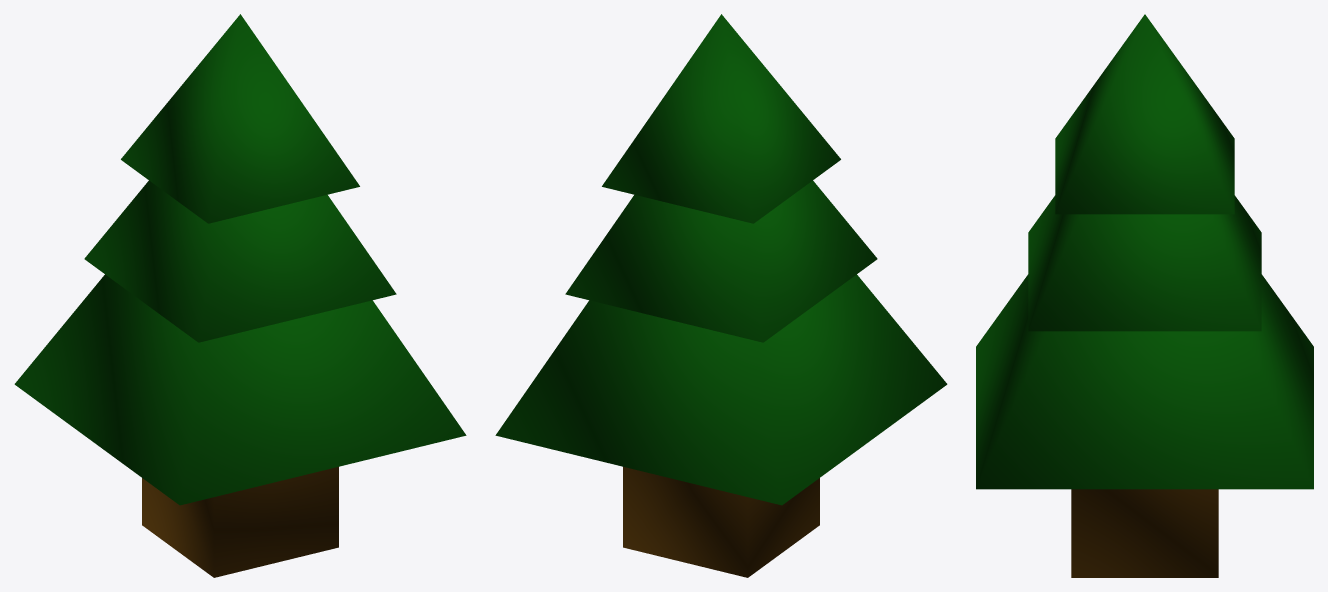
File: TreeModel.dae
3 views of the same model, side by side, from view 1: azimuth 30°, elevation 25°; view 2: azimuth 150°, elevation 25°; view 3: azimuth 270°, elevation 25° (orthographic). The views are drawn at different scales.
Parts seen in each view (by area): view 1: Cube1-0; view 2: Cube1-0; view 3: Cube1-0.
Boxes of the visible parts, x1=… form: Cube1-0: x1=14, y1=14, x2=466, y2=577; Cube1-0: x1=495, y1=14, x2=947, y2=577; Cube1-0: x1=976, y1=14, x2=1313, y2=577.
Bounding box in the file's own units: 4.59 × 7.99 × 4.59.
